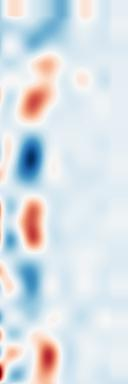filament: (14, 55, 67, 127), (12, 198, 53, 256), (32, 335, 67, 383)
